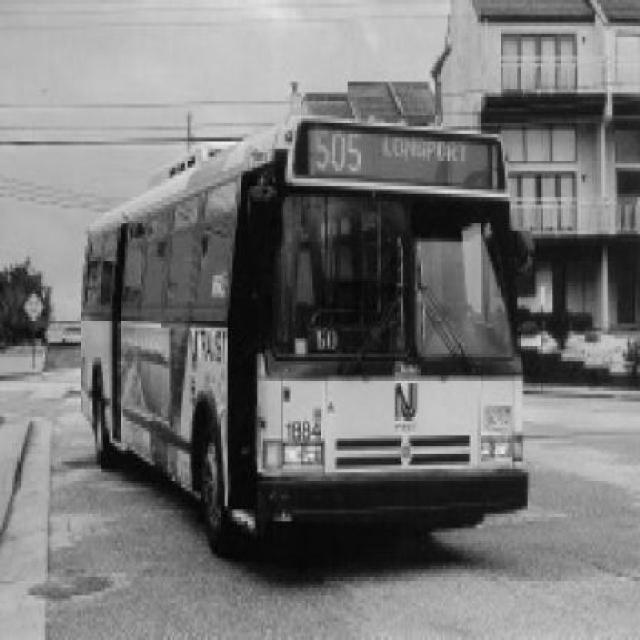Bus: (80, 115, 531, 564)
